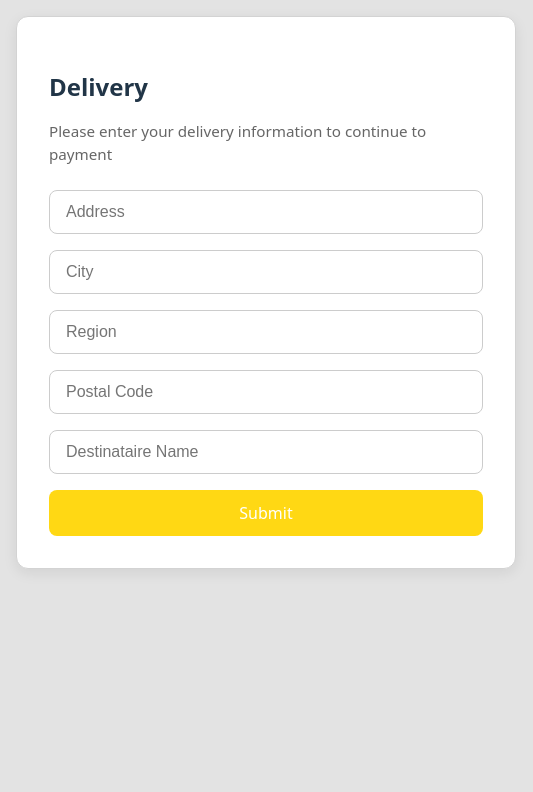
Test: DeliveryForm › Form Validation › should show validation errors for required fields
What coordinates should you click on to do the following:
click the button "Submit"
I would click on:
 (266, 513)
Its box is [49,490,483,536].
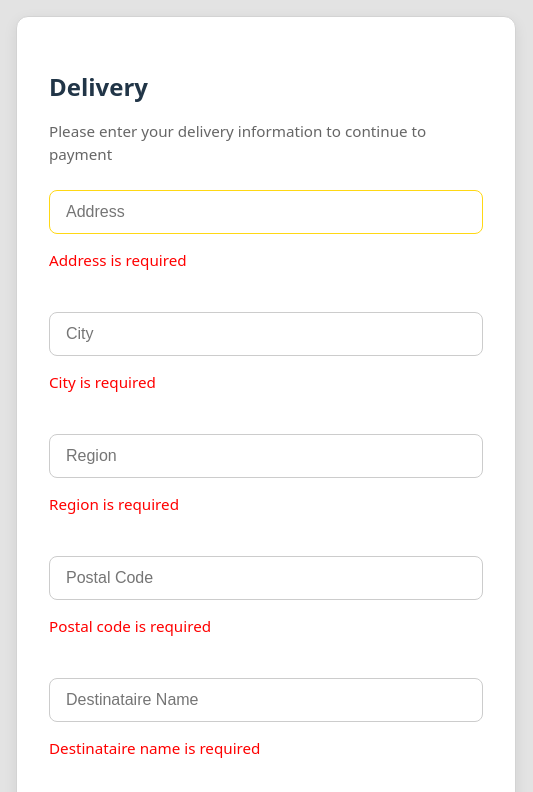
Expected: the text "Address is required" is shown, [49,250,187,270]
Expected: the text "City is required" is shown, [49,372,156,392]
Expected: the text "Region is required" is shown, [49,494,179,514]
